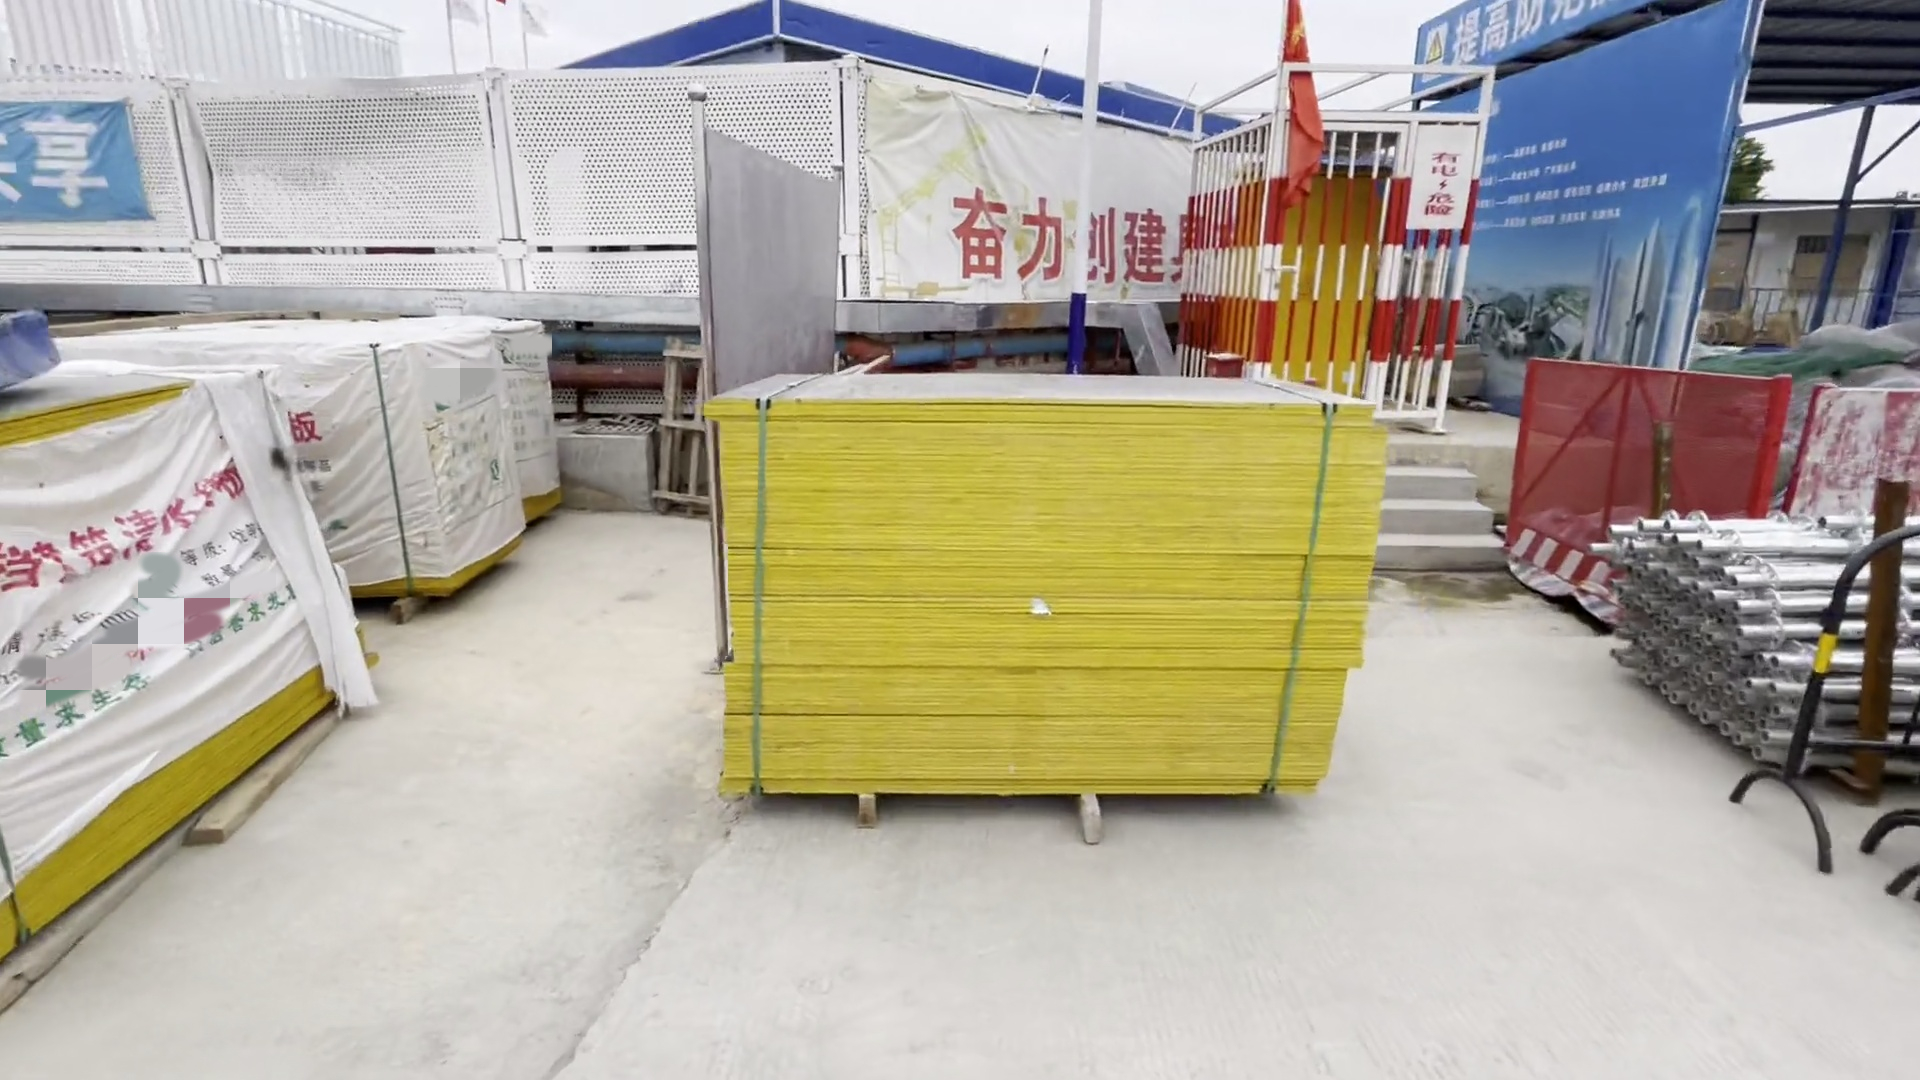board: (699, 359, 1354, 822), (1, 372, 433, 943), (105, 302, 582, 600)
ebox: (1247, 157, 1395, 380)
fence: (1509, 367, 1745, 554)
scaffold: (1597, 496, 1882, 738)
slogan: (949, 179, 1211, 287), (1, 105, 133, 219)
